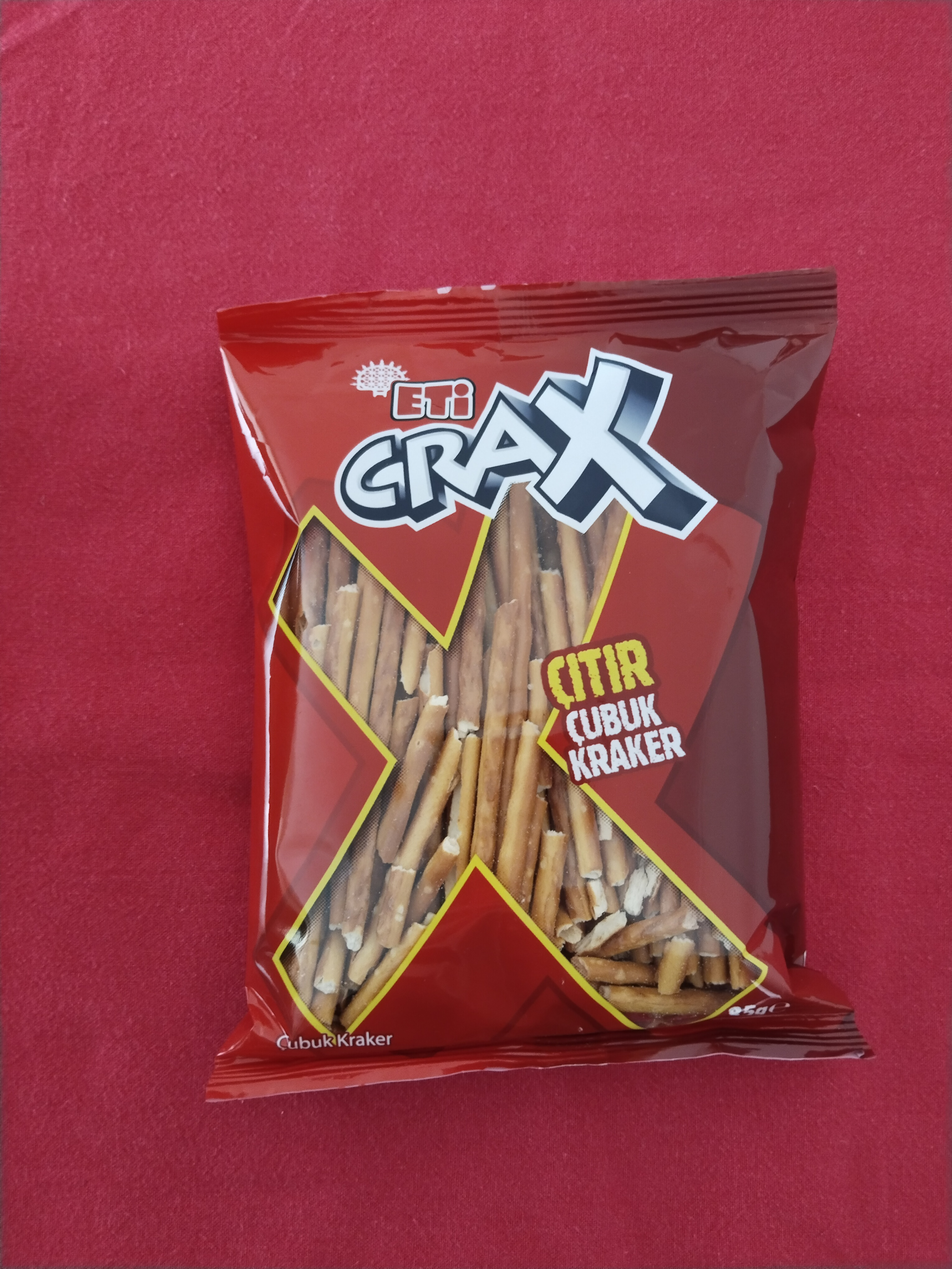eti_crax_cubuk_kraker: (212, 279, 853, 1085)
